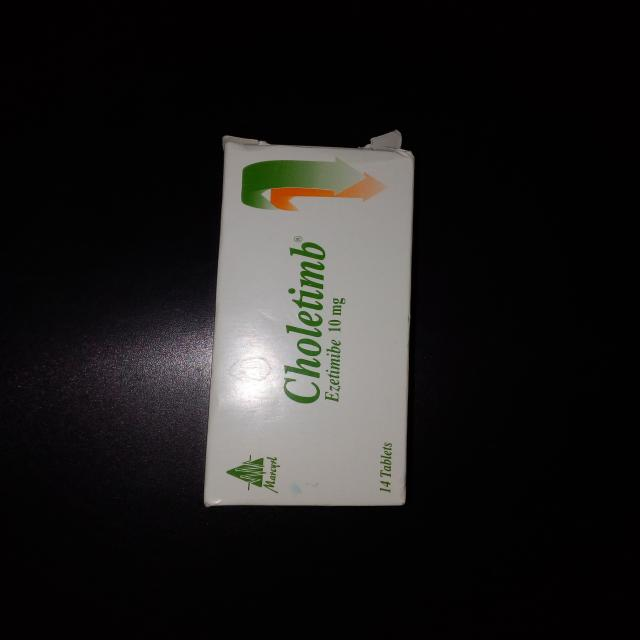Medicine: (198, 126, 414, 512)
